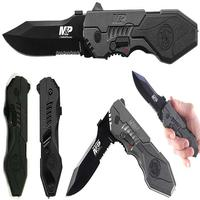knife: (66, 66, 196, 200), (2, 2, 198, 65)
